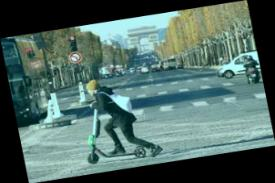nonhelmet: (71, 69, 165, 168)
